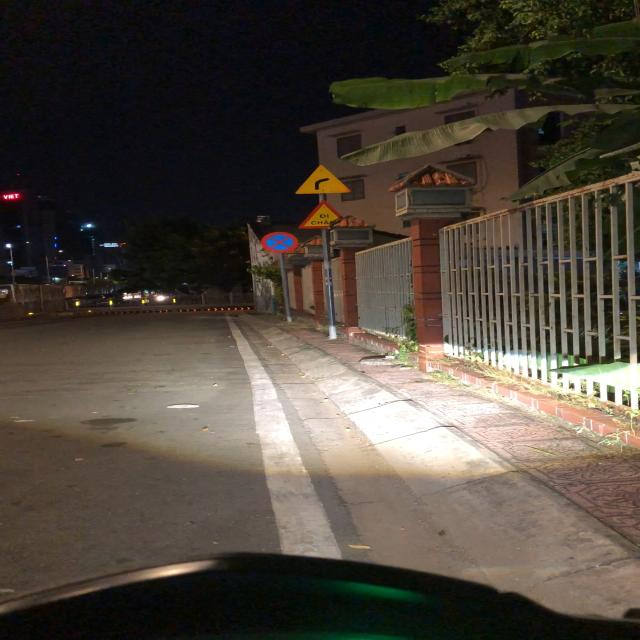Bien bao cam dung xe va do xe: (259, 230, 299, 254)
Bien bao cho ngoat nguy hiem: (290, 162, 357, 195)
Bien bao di cham: (296, 199, 354, 230)
